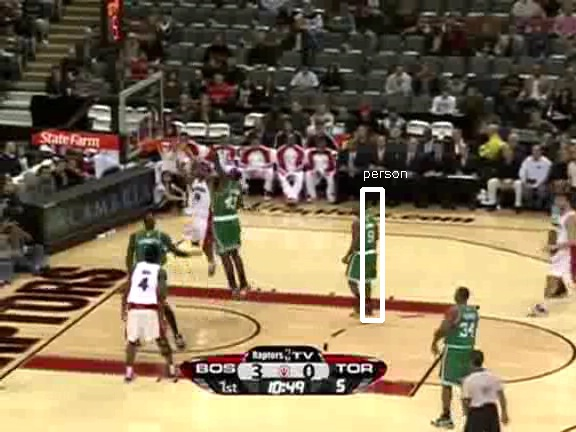person: (351, 209, 385, 290), (350, 209, 384, 290), (352, 209, 386, 290), (351, 208, 385, 289), (351, 210, 385, 291)
target_negative: (118, 99, 423, 207), (332, 75, 385, 154), (246, 415, 466, 426), (376, 405, 548, 417)
